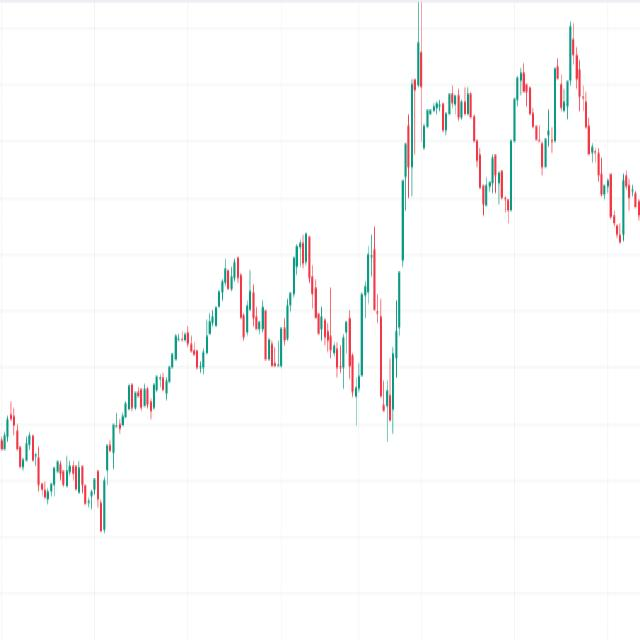Triple-Bottom: (246, 208, 426, 426)
